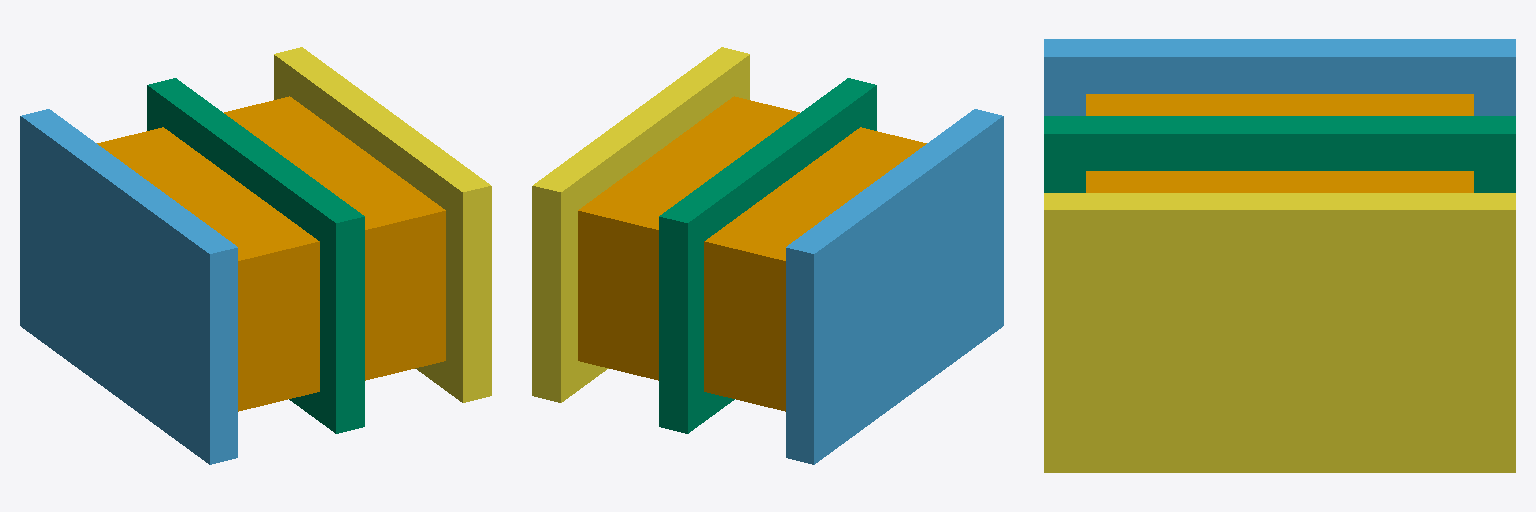
The robot description file, URDF, robot "debris001":
<?xml version="1.0" ?>
<robot name="debris001">

<link name="debris001">
<visual> <origin xyz="0 0 0" rpy="0 0 0" />
<geometry> <box size="0.48 0.47 0.25"/> </geometry>
</visual>
<collision> <origin xyz="0 0 0" rpy="0 0 0" />
<geometry> <box size="0.48 0.47 0.25"/> </geometry>
</collision>
<inertial> <origin xyz="0 0 0" rpy="0 0 0" />
<mass value="10.0" />
<inertia ixx="0.2653" ixy="0" ixz="0" iyy="0.2653" iyz="0" izz="0.2653" />
</inertial>
</link>
<gazebo reference="debris001"> <material>Gazebo/Tree</material> </gazebo>

<link name="debris0010">
<visual> <origin xyz="-0.22 0 0" rpy="0 0 0" />
<geometry> <box size="0.05 0.57 0.35"/> </geometry>
</visual>
<collision> <origin xyz="-0.22 0 0" rpy="0 0 0" />
<geometry> <box size="0.05 0.57 0.35"/> </geometry>
</collision>
<inertial> <origin xyz="0 0 0" rpy="0 0 0" />
<mass value="0.1" />
<inertia ixx="0.0100" ixy="0" ixz="0" iyy="0.0100" iyz="0" izz="0.0100" />
</inertial>
</link>
<gazebo reference="debris0010"> <material>Gazebo/Tree</material> </gazebo>

<joint name="debris0010joint" type="fixed">
<parent link="debris001"/>
<child link="debris0010"/>
<origin xyz="0 0 0" rpy="0 0 0" />
</joint>

<link name="debris0011">
<visual> <origin xyz="0.00 0 0" rpy="0 0 0" />
<geometry> <box size="0.05 0.57 0.35"/> </geometry>
</visual>
<collision> <origin xyz="0.00 0 0" rpy="0 0 0" />
<geometry> <box size="0.05 0.57 0.35"/> </geometry>
</collision>
<inertial> <origin xyz="0 0 0" rpy="0 0 0" />
<mass value="0.1" />
<inertia ixx="0.0100" ixy="0" ixz="0" iyy="0.0100" iyz="0" izz="0.0100" />
</inertial>
</link>
<gazebo reference="debris0011"> <material>Gazebo/Tree</material> </gazebo>

<joint name="debris0011joint" type="fixed">
<parent link="debris001"/>
<child link="debris0011"/>
<origin xyz="0 0 0" rpy="0 0 0" />
</joint>

<link name="debris0012">
<visual> <origin xyz="0.22 0 0" rpy="0 0 0" />
<geometry> <box size="0.05 0.57 0.35"/> </geometry>
</visual>
<collision> <origin xyz="0.22 0 0" rpy="0 0 0" />
<geometry> <box size="0.05 0.57 0.35"/> </geometry>
</collision>
<inertial> <origin xyz="0 0 0" rpy="0 0 0" />
<mass value="0.1" />
<inertia ixx="0.0100" ixy="0" ixz="0" iyy="0.0100" iyz="0" izz="0.0100" />
</inertial>
</link>
<gazebo reference="debris0012"> <material>Gazebo/Tree</material> </gazebo>

<joint name="debris0012joint" type="fixed">
<parent link="debris001"/>
<child link="debris0012"/>
<origin xyz="0 0 0" rpy="0 0 0" />
</joint>

</robot>

--- What the picture shows (computed from the rendered views, not written in the file) ---
3 views of the same robot in one strip: view 1: azimuth 30°, elevation 25°; view 2: azimuth 150°, elevation 25°; view 3: azimuth 270°, elevation 25° (orthographic).
Robot: debris001 — 4 links, 3 joints (3 fixed); root link debris001; default pose: every joint at zero.
Links seen in each view (by area): view 1: debris0010, debris001, debris0012, debris0011; view 2: debris0010, debris001, debris0012, debris0011; view 3: debris0012, debris0010, debris0011, debris001.
Link boxes in pixels (left/top/right/bottom): debris0010: left=20, top=109, right=237, bottom=464; debris001: left=97, top=96, right=445, bottom=411; debris0012: left=274, top=47, right=491, bottom=402; debris0011: left=147, top=78, right=364, bottom=433; debris0010: left=786, top=109, right=1003, bottom=464; debris001: left=578, top=96, right=926, bottom=411; debris0012: left=532, top=47, right=749, bottom=402; debris0011: left=659, top=78, right=876, bottom=433; debris0012: left=1044, top=193, right=1515, bottom=472; debris0010: left=1044, top=39, right=1515, bottom=115; debris0011: left=1044, top=116, right=1515, bottom=192; debris001: left=1086, top=94, right=1473, bottom=192.
Bounding box of the posed robot: 0.49 × 0.57 × 0.35 m (x, y, z).
Geometry: primitives only (box / cylinder / sphere), no mesh files.
